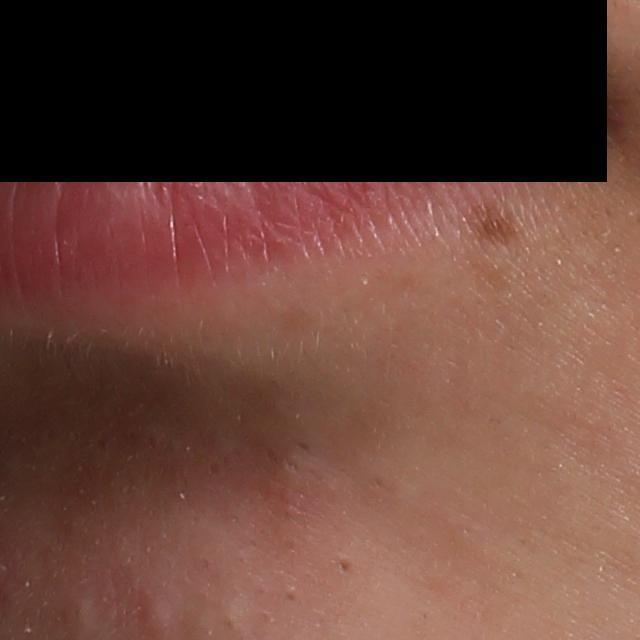comedo: (332, 554, 355, 577), (220, 613, 240, 634), (283, 585, 297, 604)
nevus: (468, 199, 510, 241)
